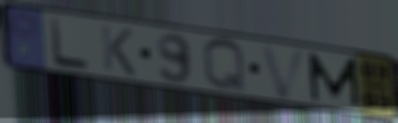9: (154, 32, 194, 85)
K: (98, 22, 138, 78)
L: (47, 15, 92, 73)
M: (305, 50, 362, 109)
Q: (200, 36, 249, 94)
V: (257, 42, 311, 101)
